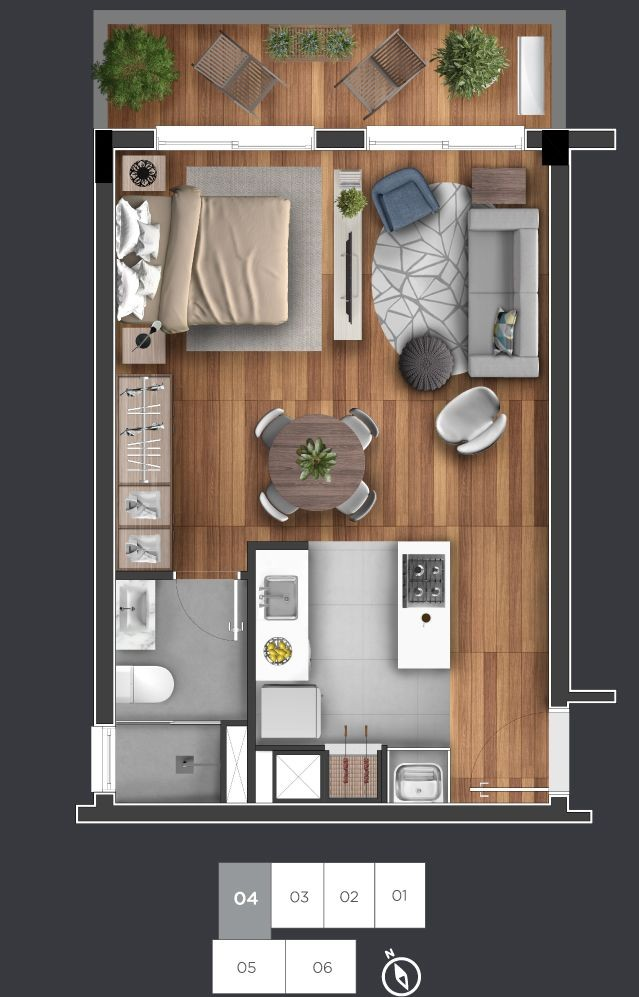wall: (548, 168, 572, 702), (93, 183, 115, 719), (78, 806, 556, 822), (246, 541, 255, 806), (316, 129, 365, 149), (111, 129, 155, 148), (550, 691, 615, 702), (115, 570, 173, 579), (248, 541, 307, 549)
